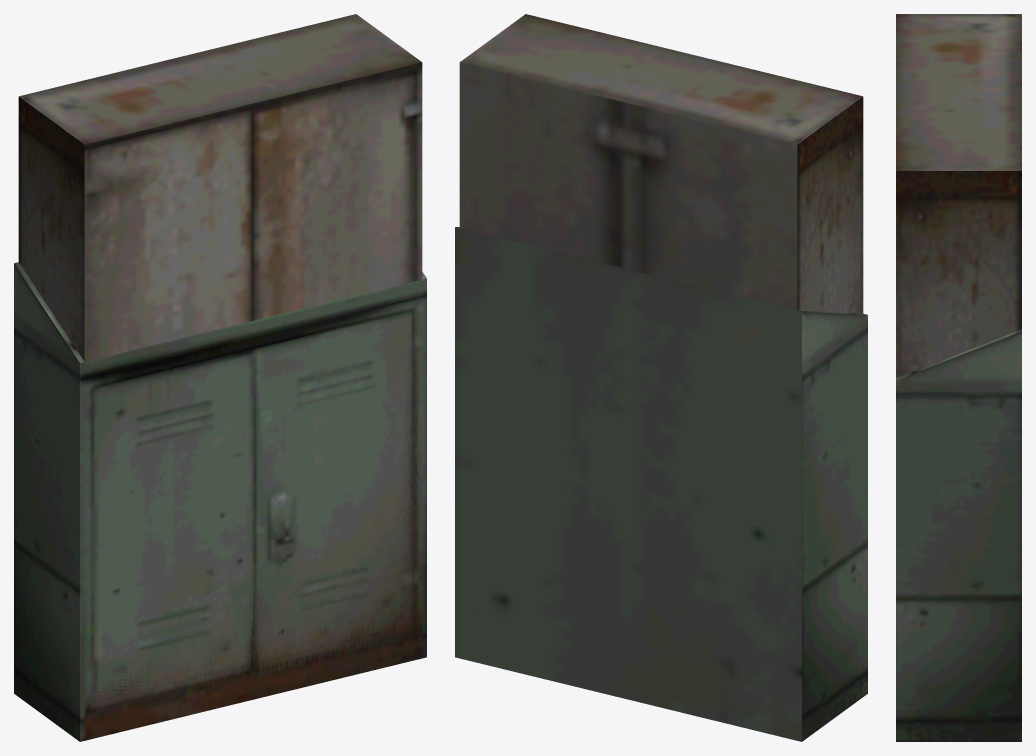
File: Metal_cabinet.fbx
The picture shows the model from 3 angles, left to right: view 1: azimuth 30°, elevation 25°; view 2: azimuth 150°, elevation 25°; view 3: azimuth 270°, elevation 25°; orthographic projection. The views are drawn at different scales.
Parts seen in each view (by area): view 1: Metal_cabinet_1, Metal_cabinet_2; view 2: Metal_cabinet_1, Metal_cabinet_2; view 3: Metal_cabinet_1, Metal_cabinet_2.
Boxes of the visible parts, <box> form: Metal_cabinet_1: <box>14,262,426,741</box>; Metal_cabinet_2: <box>18,14,422,740</box>; Metal_cabinet_1: <box>455,227,867,741</box>; Metal_cabinet_2: <box>459,14,863,313</box>; Metal_cabinet_1: <box>896,329,1021,741</box>; Metal_cabinet_2: <box>896,14,1021,378</box>.
Bounding box in the file's own units: 121 × 199 × 39.96.
